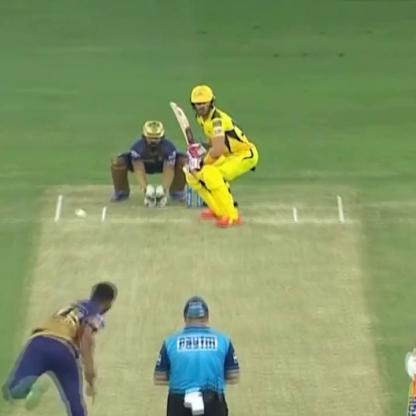ball: (74, 209, 88, 224)
bat: (163, 98, 205, 170)
pitch: (3, 186, 402, 416)
